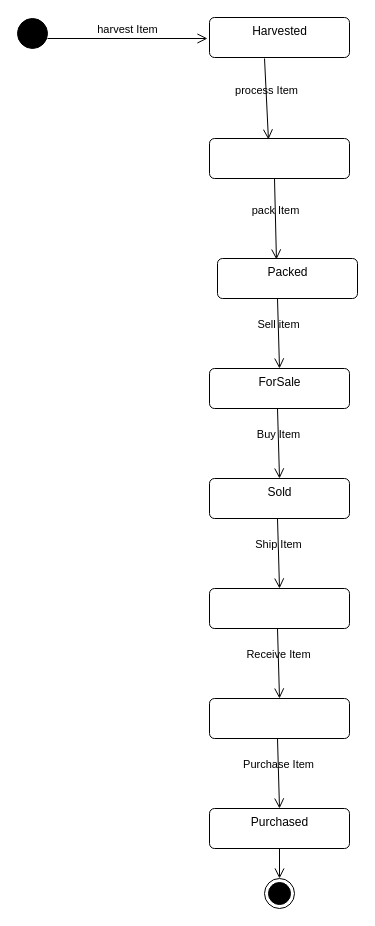
The diagram is 375 pixels wide and 926 high, and some of its shapes have lost their labels. The shapes that lost their labels are listed below. From the top down, each one's centre as x and y in pixels, then its label:
At point (279, 158): "Processed".
At point (279, 608): "Shipped".
At point (279, 718): "Received".
